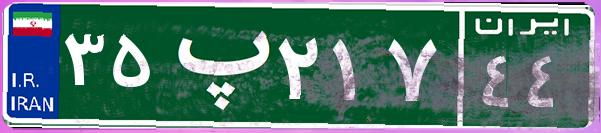1: (330, 28, 385, 110)
2: (273, 28, 330, 110)
3: (57, 26, 110, 107)
4: (475, 38, 525, 113), (525, 38, 570, 115)
5: (110, 28, 158, 105)
7: (385, 28, 445, 110)
پ: (158, 15, 273, 115)
